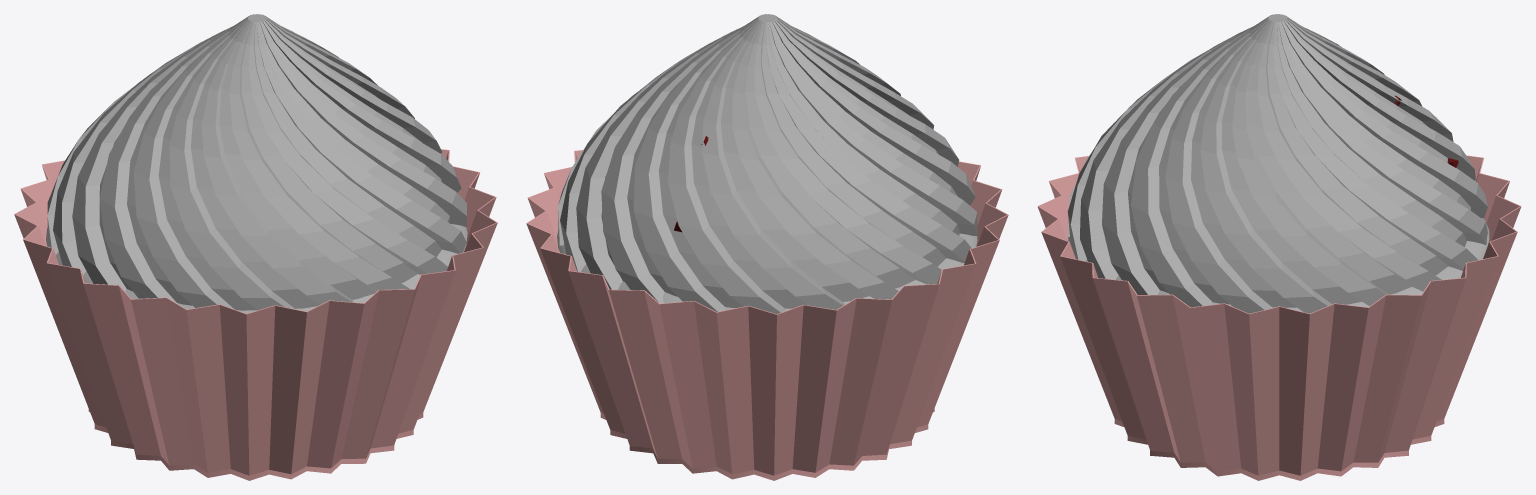
The model's file is Cupcake.fbx.
3 views of the same model, side by side, from view 1: azimuth 30°, elevation 25°; view 2: azimuth 150°, elevation 25°; view 3: azimuth 270°, elevation 25° (orthographic).
Visible parts, largest first — view 1: polySurface11; view 2: polySurface11; view 3: polySurface11.
Part boxes in pixels (bbox=[...]): polySurface11: bbox=[14, 14, 497, 480]; polySurface11: bbox=[526, 14, 1008, 480]; polySurface11: bbox=[1037, 14, 1521, 480].
Bounding box in the file's own units: 12.48 × 11.19 × 12.5.
